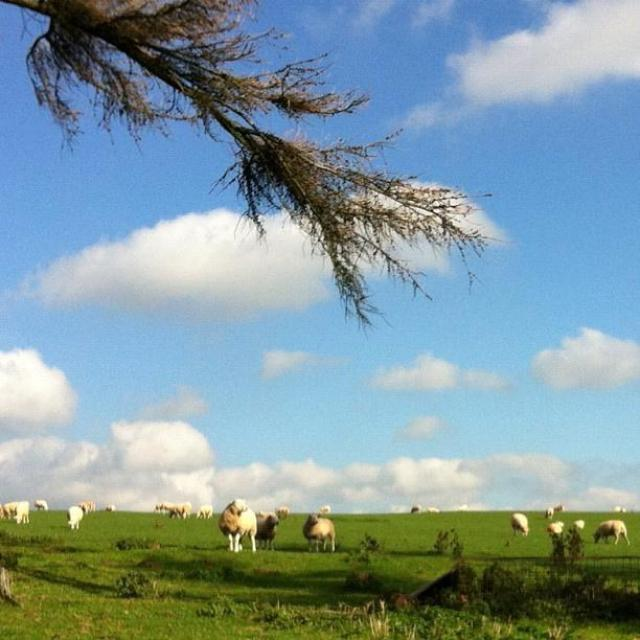Sheep: (220, 498, 258, 553)
